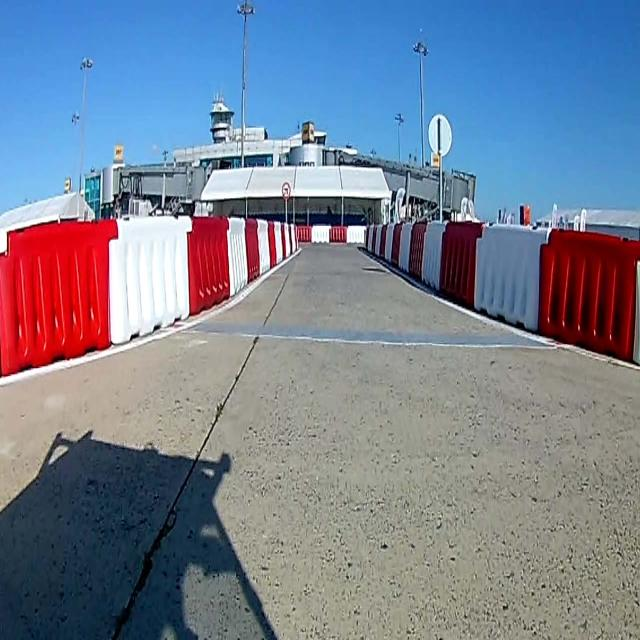soladonulmez: (282, 182, 292, 198)
